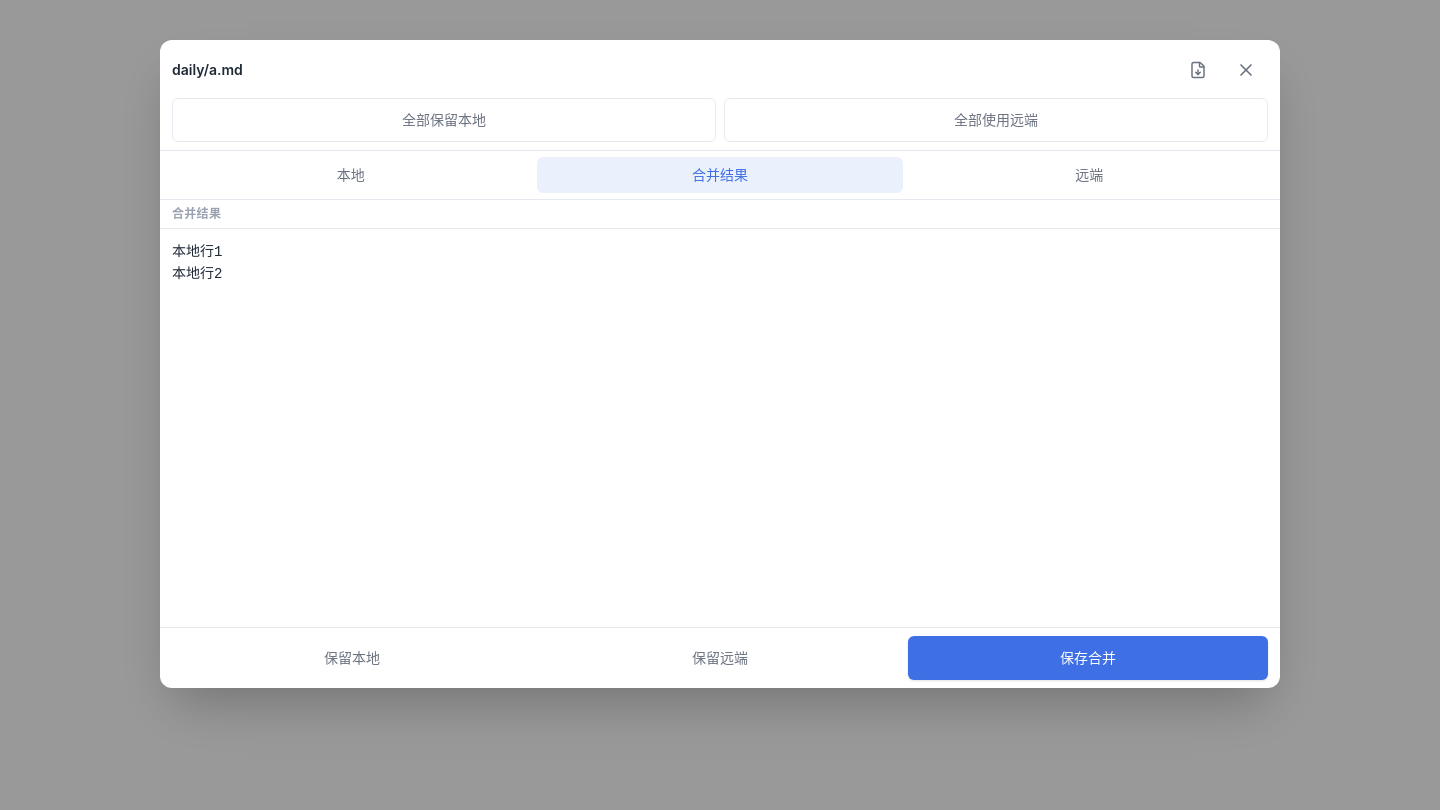
Test: ConflictMergeDialog 移动端单栏 › 批量解决按钮在移动端也保持可点，失败时有反馈
Click the button "全部使用远端" at (996, 120), box [724,98,1268,142]
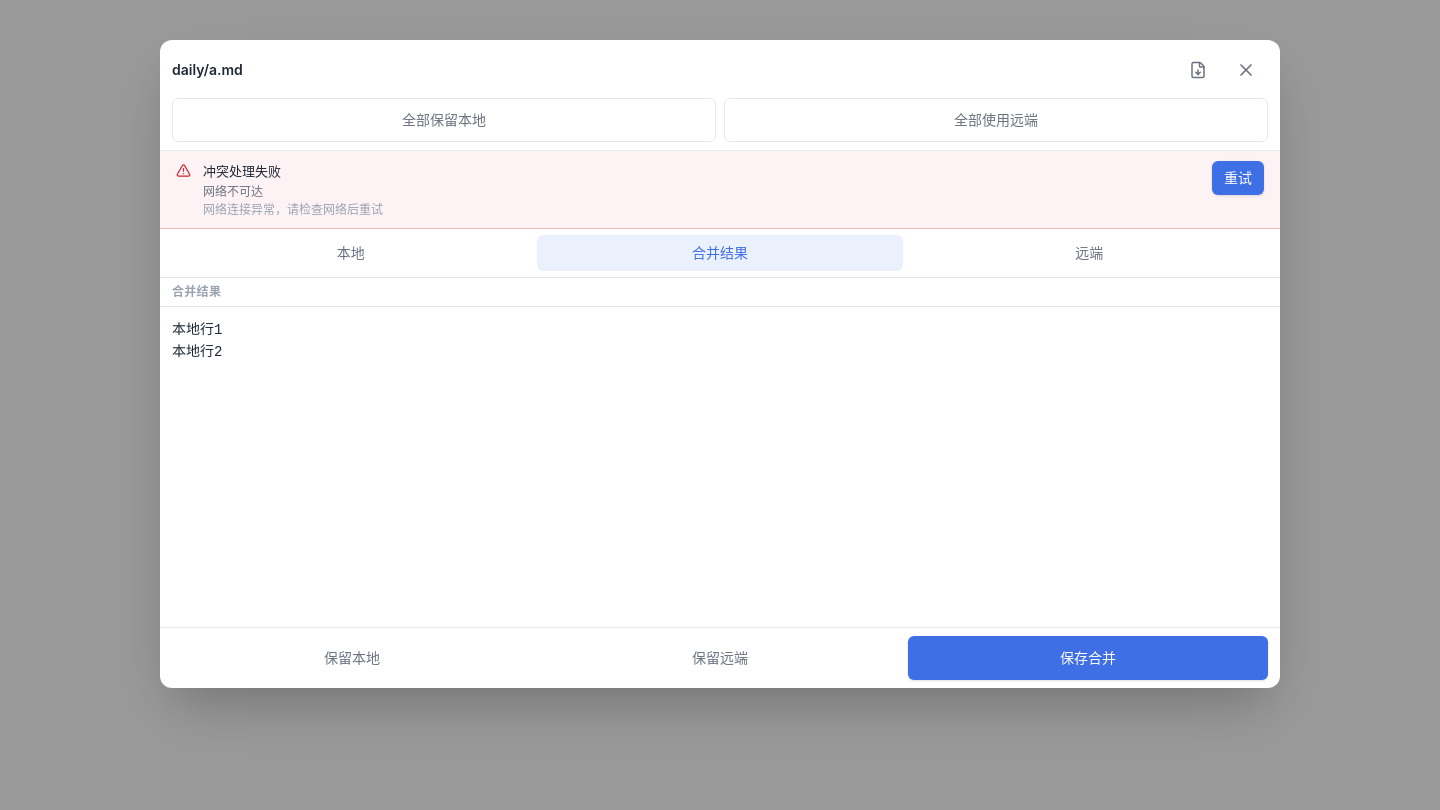
expect the text "网络不可达" is shown: met, box [203,184,263,199]
